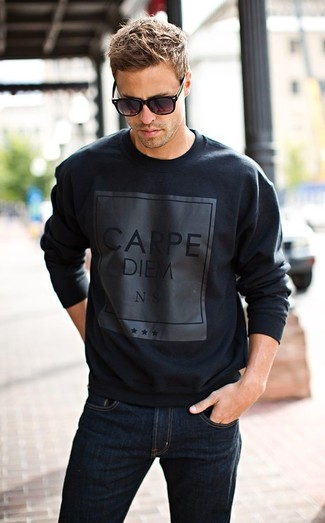jeans: (59, 388, 242, 522)
sunglasses: (104, 95, 177, 117)
